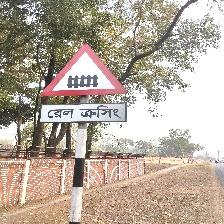Rail-crossing: (39, 43, 129, 125)
